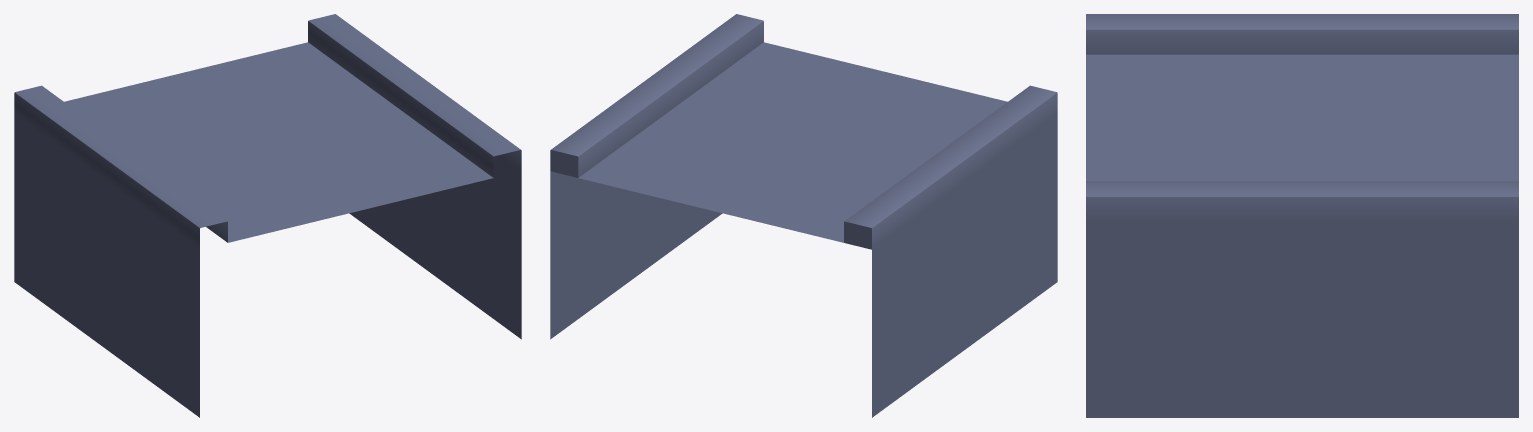
The model's file is conveyor_normal.fbx.
3 renders of one model, left to right at view 1: azimuth 30°, elevation 25°; view 2: azimuth 150°, elevation 25°; view 3: azimuth 270°, elevation 25°, orthographic. The views are drawn at different scales.
Visible parts, largest first — view 1: DUZ; view 2: DUZ; view 3: DUZ.
Part boxes in pixels (left/top/right/bottom): DUZ: left=14, top=14, right=521, bottom=417; DUZ: left=550, top=14, right=1057, bottom=417; DUZ: left=1086, top=14, right=1518, bottom=417.
Bounding box in the file's own units: 100 × 56.43 × 100.
